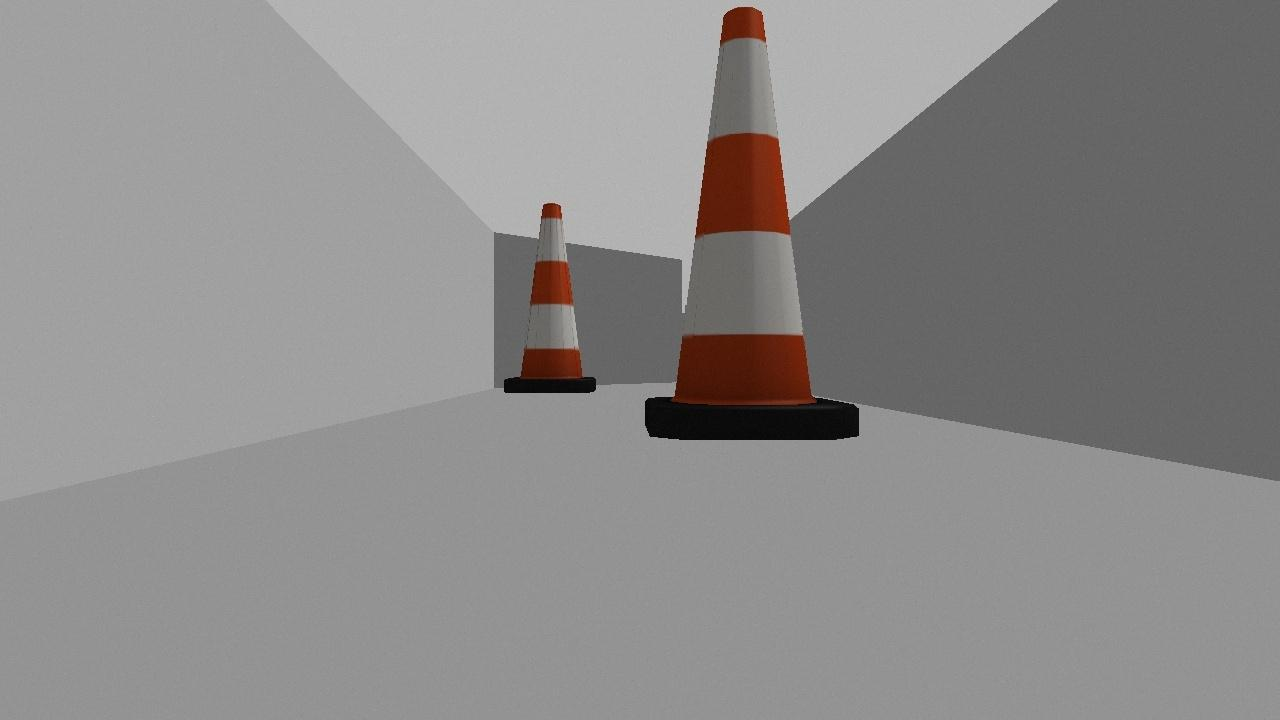cone_barrel: (632, 0, 873, 443), (494, 198, 606, 402)
